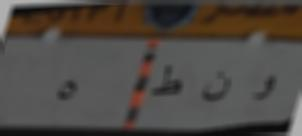5: (52, 76, 81, 105)
Taa: (151, 61, 184, 101)
noon: (199, 67, 232, 109)
waw: (249, 70, 280, 106)
